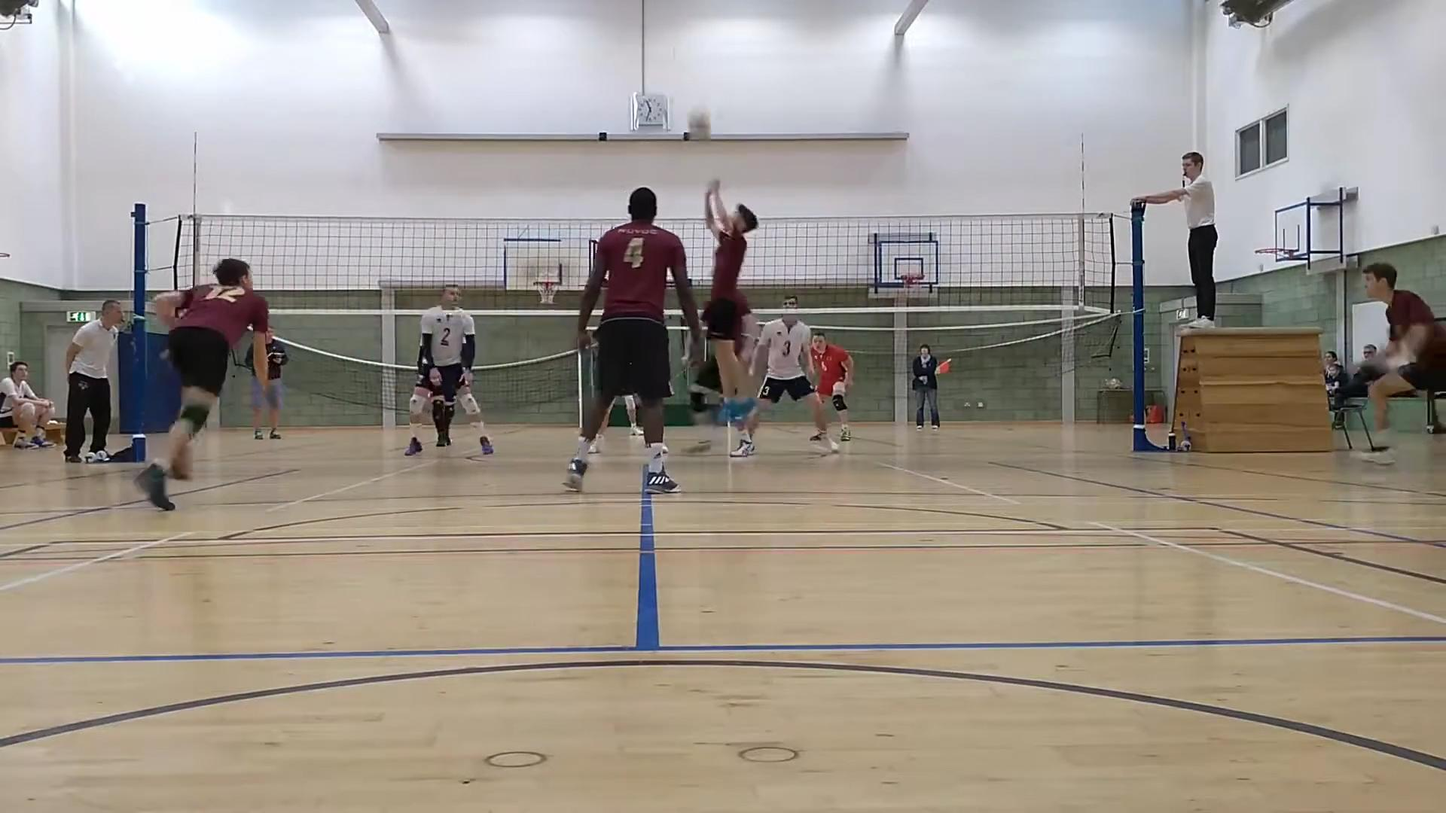alzata: (699, 175, 776, 407)
